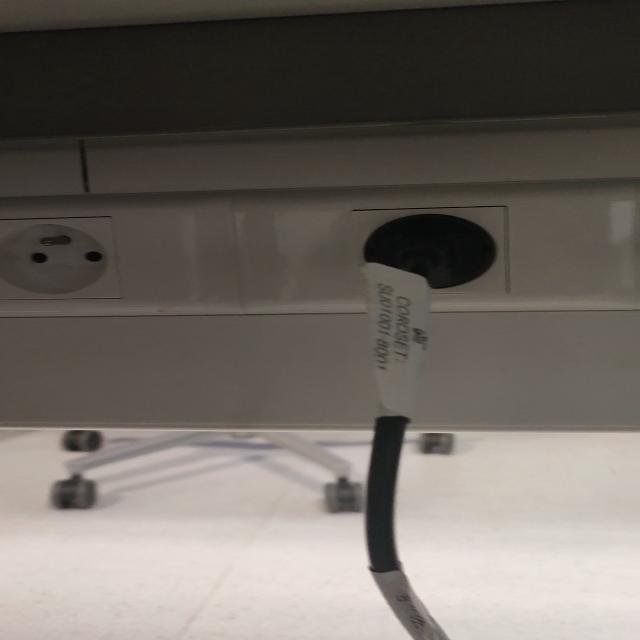house plug: (1, 214, 124, 299)
